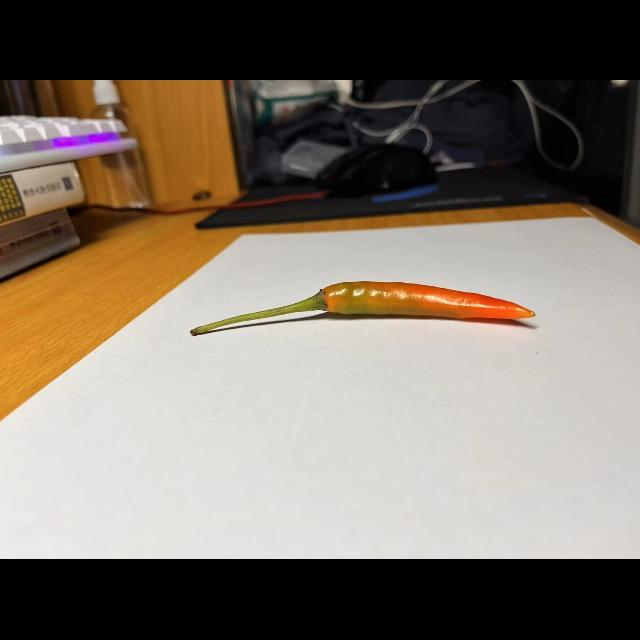chili_pepper: (185, 273, 540, 342)
